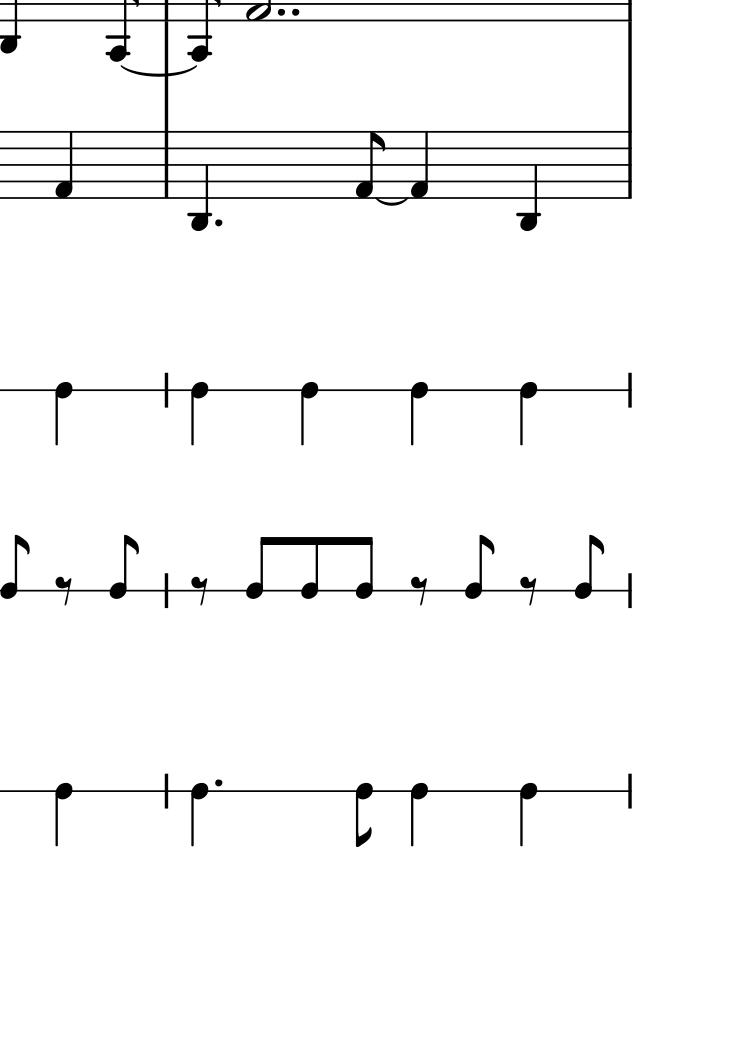4_-3: (515, 126, 540, 235), (186, 127, 211, 235)
4_1: (407, 129, 431, 200), (52, 130, 75, 201)
4_4: (188, 781, 209, 850), (53, 781, 74, 849), (189, 379, 209, 449), (299, 379, 319, 449), (518, 380, 538, 449), (54, 380, 74, 448), (408, 380, 428, 448), (408, 781, 428, 849), (518, 781, 538, 849)
8_1: (353, 128, 387, 200)
8_4: (463, 534, 496, 599), (575, 533, 605, 601), (109, 534, 140, 599), (1, 532, 30, 601), (244, 535, 272, 599), (299, 537, 320, 601), (355, 781, 374, 850), (356, 535, 374, 600)
Rests8: (53, 573, 78, 607), (189, 574, 212, 608), (518, 574, 541, 607), (409, 574, 431, 607)
Single_barline: (158, 131, 175, 200), (620, 131, 637, 199)
Slur: (373, 196, 409, 208)
dot: (276, 5, 292, 20), (212, 776, 228, 790), (213, 214, 226, 231)
